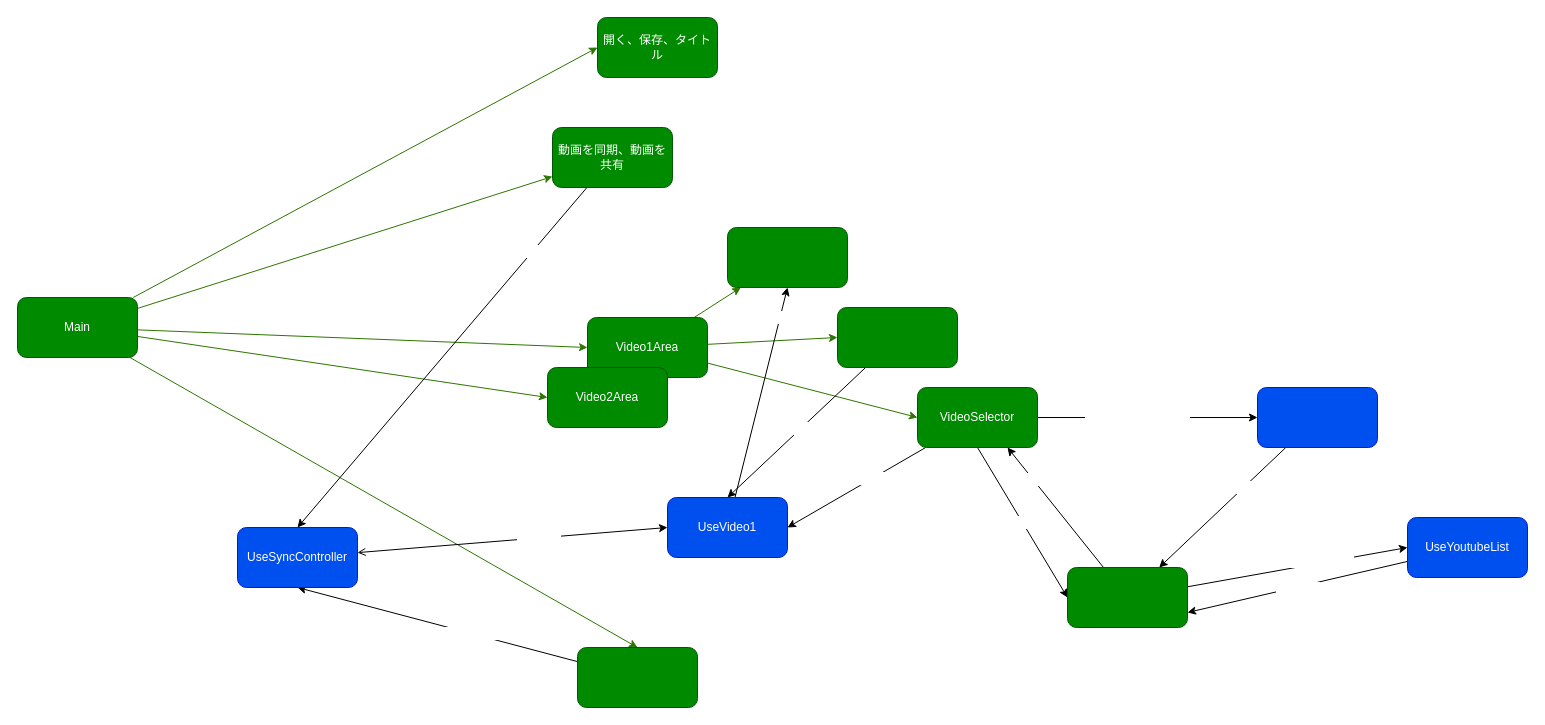
Some shapes in this 1545 by 725 pixel diagram are drawn without their labels. Here are the shapes that lost their labels. From the top down, the centre of each, then its label:
At (x=787, y=257): "Video".
At (x=897, y=337): "VideoAdjustment".
At (x=1317, y=417): "UseModal".
At (x=1127, y=597): "Modal".
At (x=637, y=677): "SyncController".
